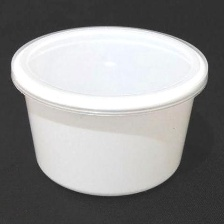plastic_box: (5, 16, 214, 204)
